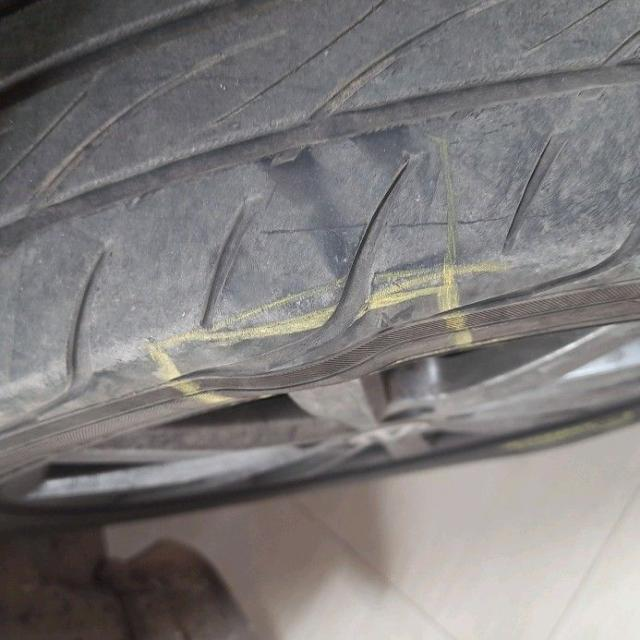Bulge: (172, 280, 418, 397)
